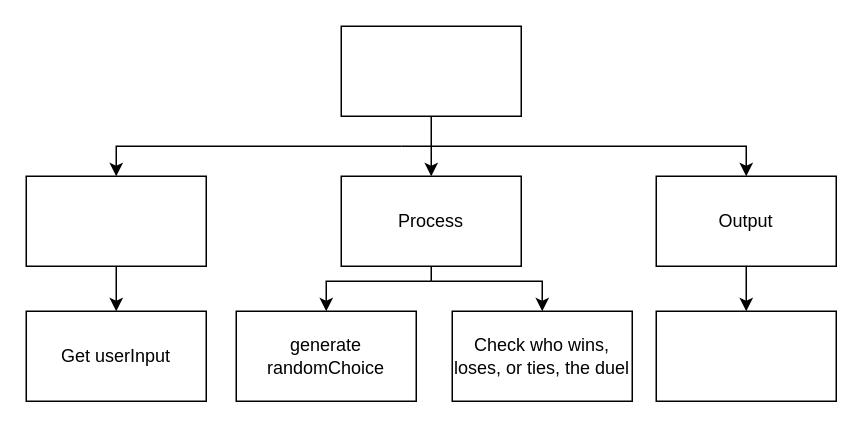
The diagram is 863 pixels wide and 428 high, and some of its shapes have lost their labels. Here are the shapes that lost their labels. From the top down, the centre of each, then its label:
At pixel 430 70: "Rock, paper, scissors".
At pixel 115 220: "Input".
At pixel 745 355: "show who wins, loses, or ties the duel".
